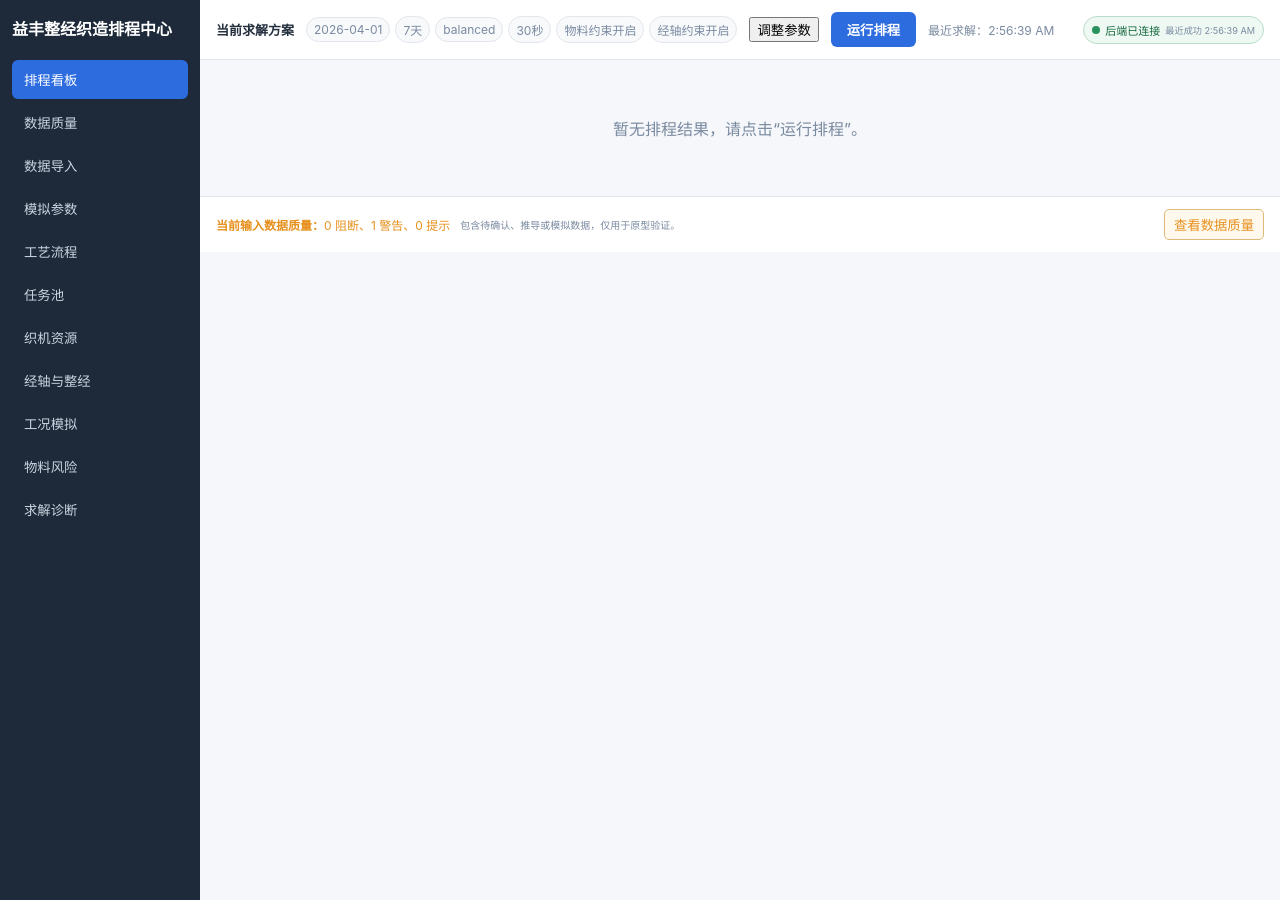
Test: App › 诊断模式显示不可发布
Click the button "调整参数" at (784, 30), box [750, 17, 819, 42]
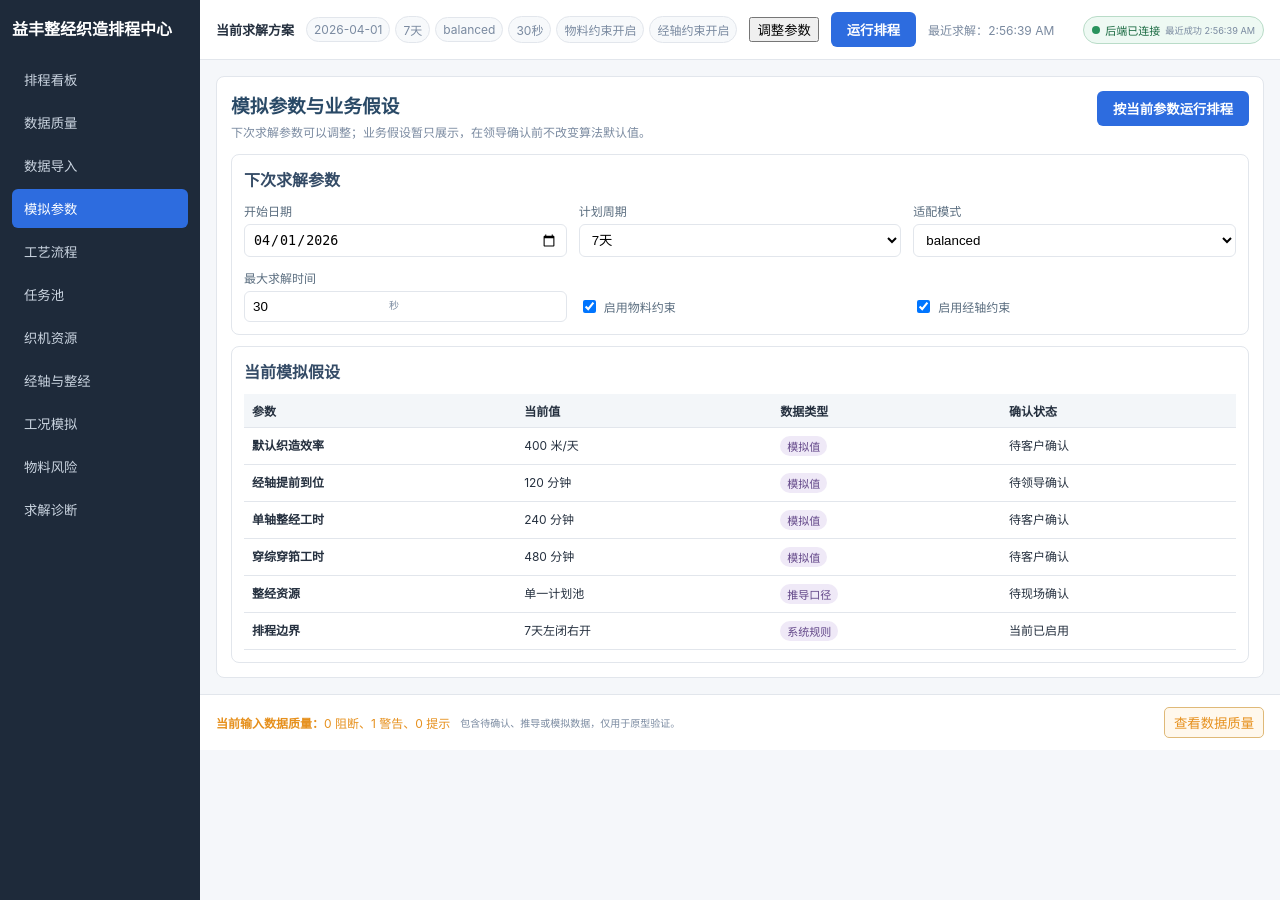
Click the checkbox labelled "启用物料约束" at (589, 307), box [583, 300, 596, 313]
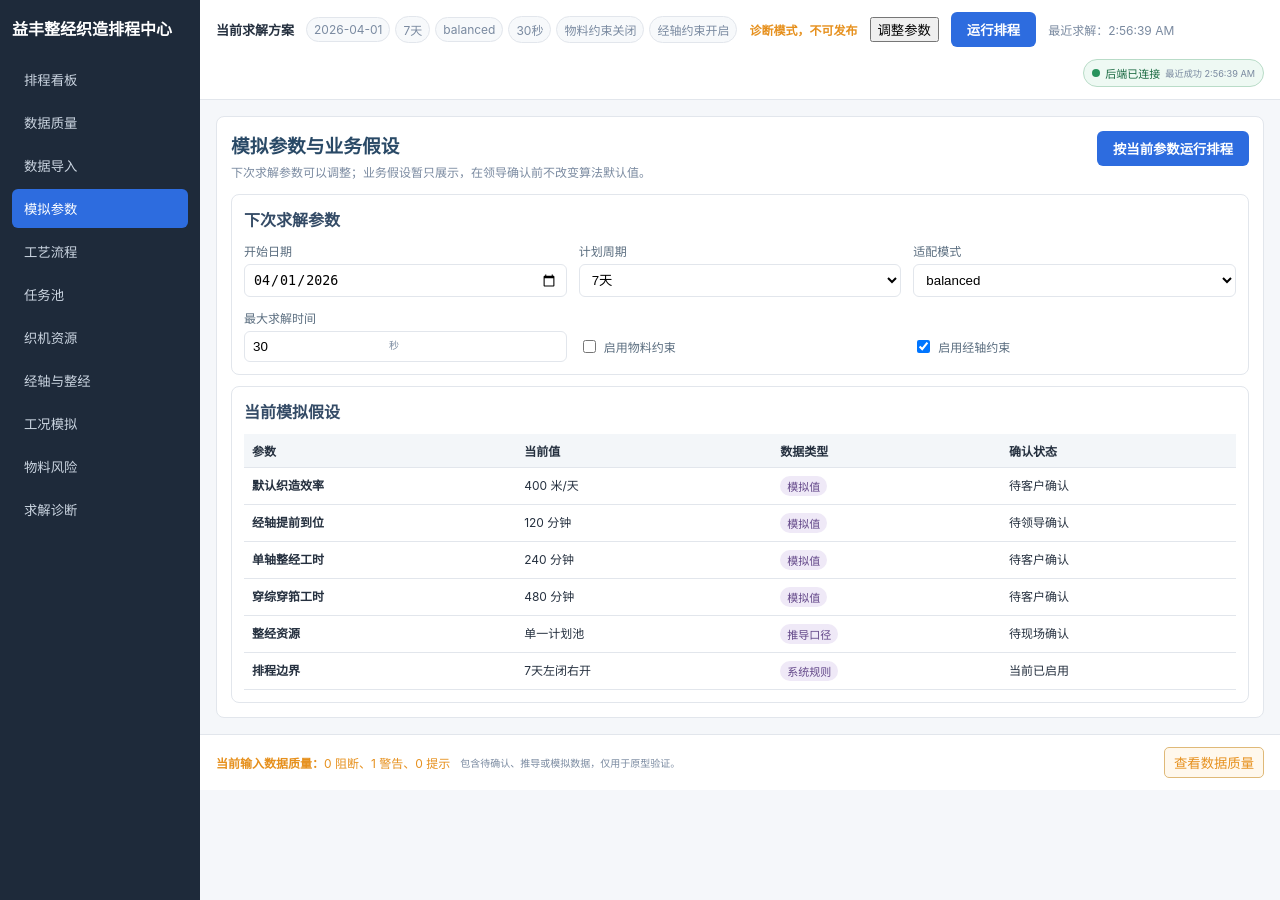
Check: the text "诊断模式，不可发布" is shown, box [750, 21, 858, 38]
